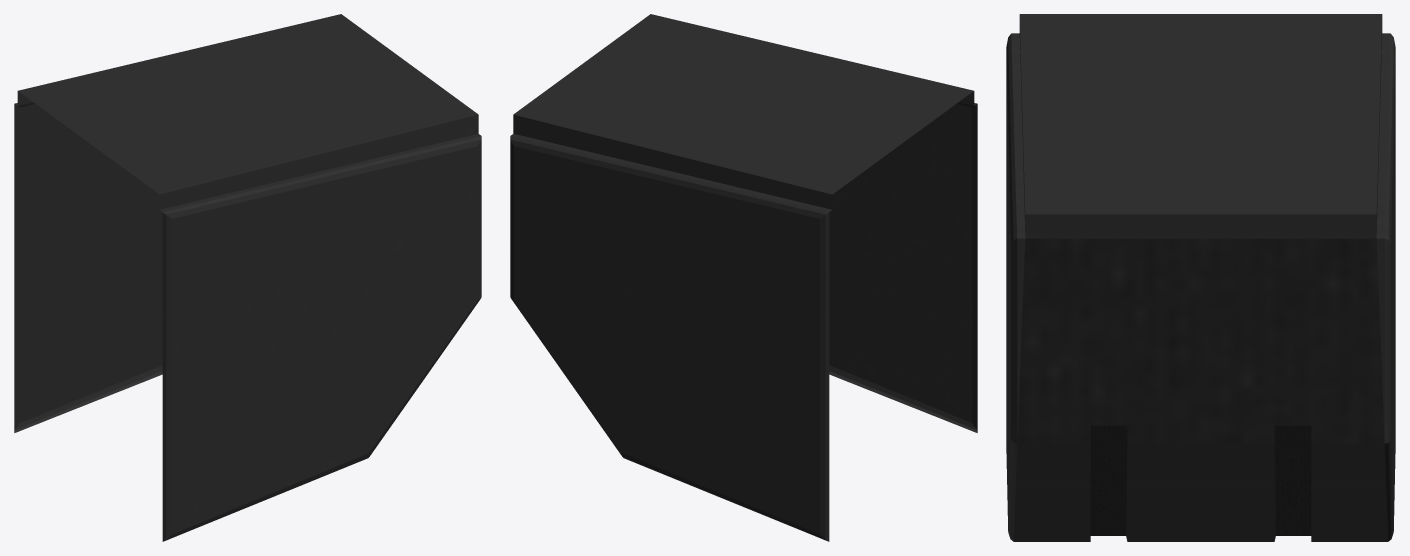
Rendered from reviB.fbx.
3 views of the same model, side by side, from view 1: azimuth 30°, elevation 25°; view 2: azimuth 150°, elevation 25°; view 3: azimuth 270°, elevation 25° (orthographic). The views are drawn at different scales.
Visible parts, largest first — view 1: fond; view 2: fond; view 3: fond.
Part boxes in pixels (<box>): fond: <box>14,14,481,541</box>; fond: <box>510,14,977,541</box>; fond: <box>1006,14,1395,541</box>.
Size of the model in its own units: 20.59 by 16.88 by 21.11.
Materials: 1 (1 with a texture image).
